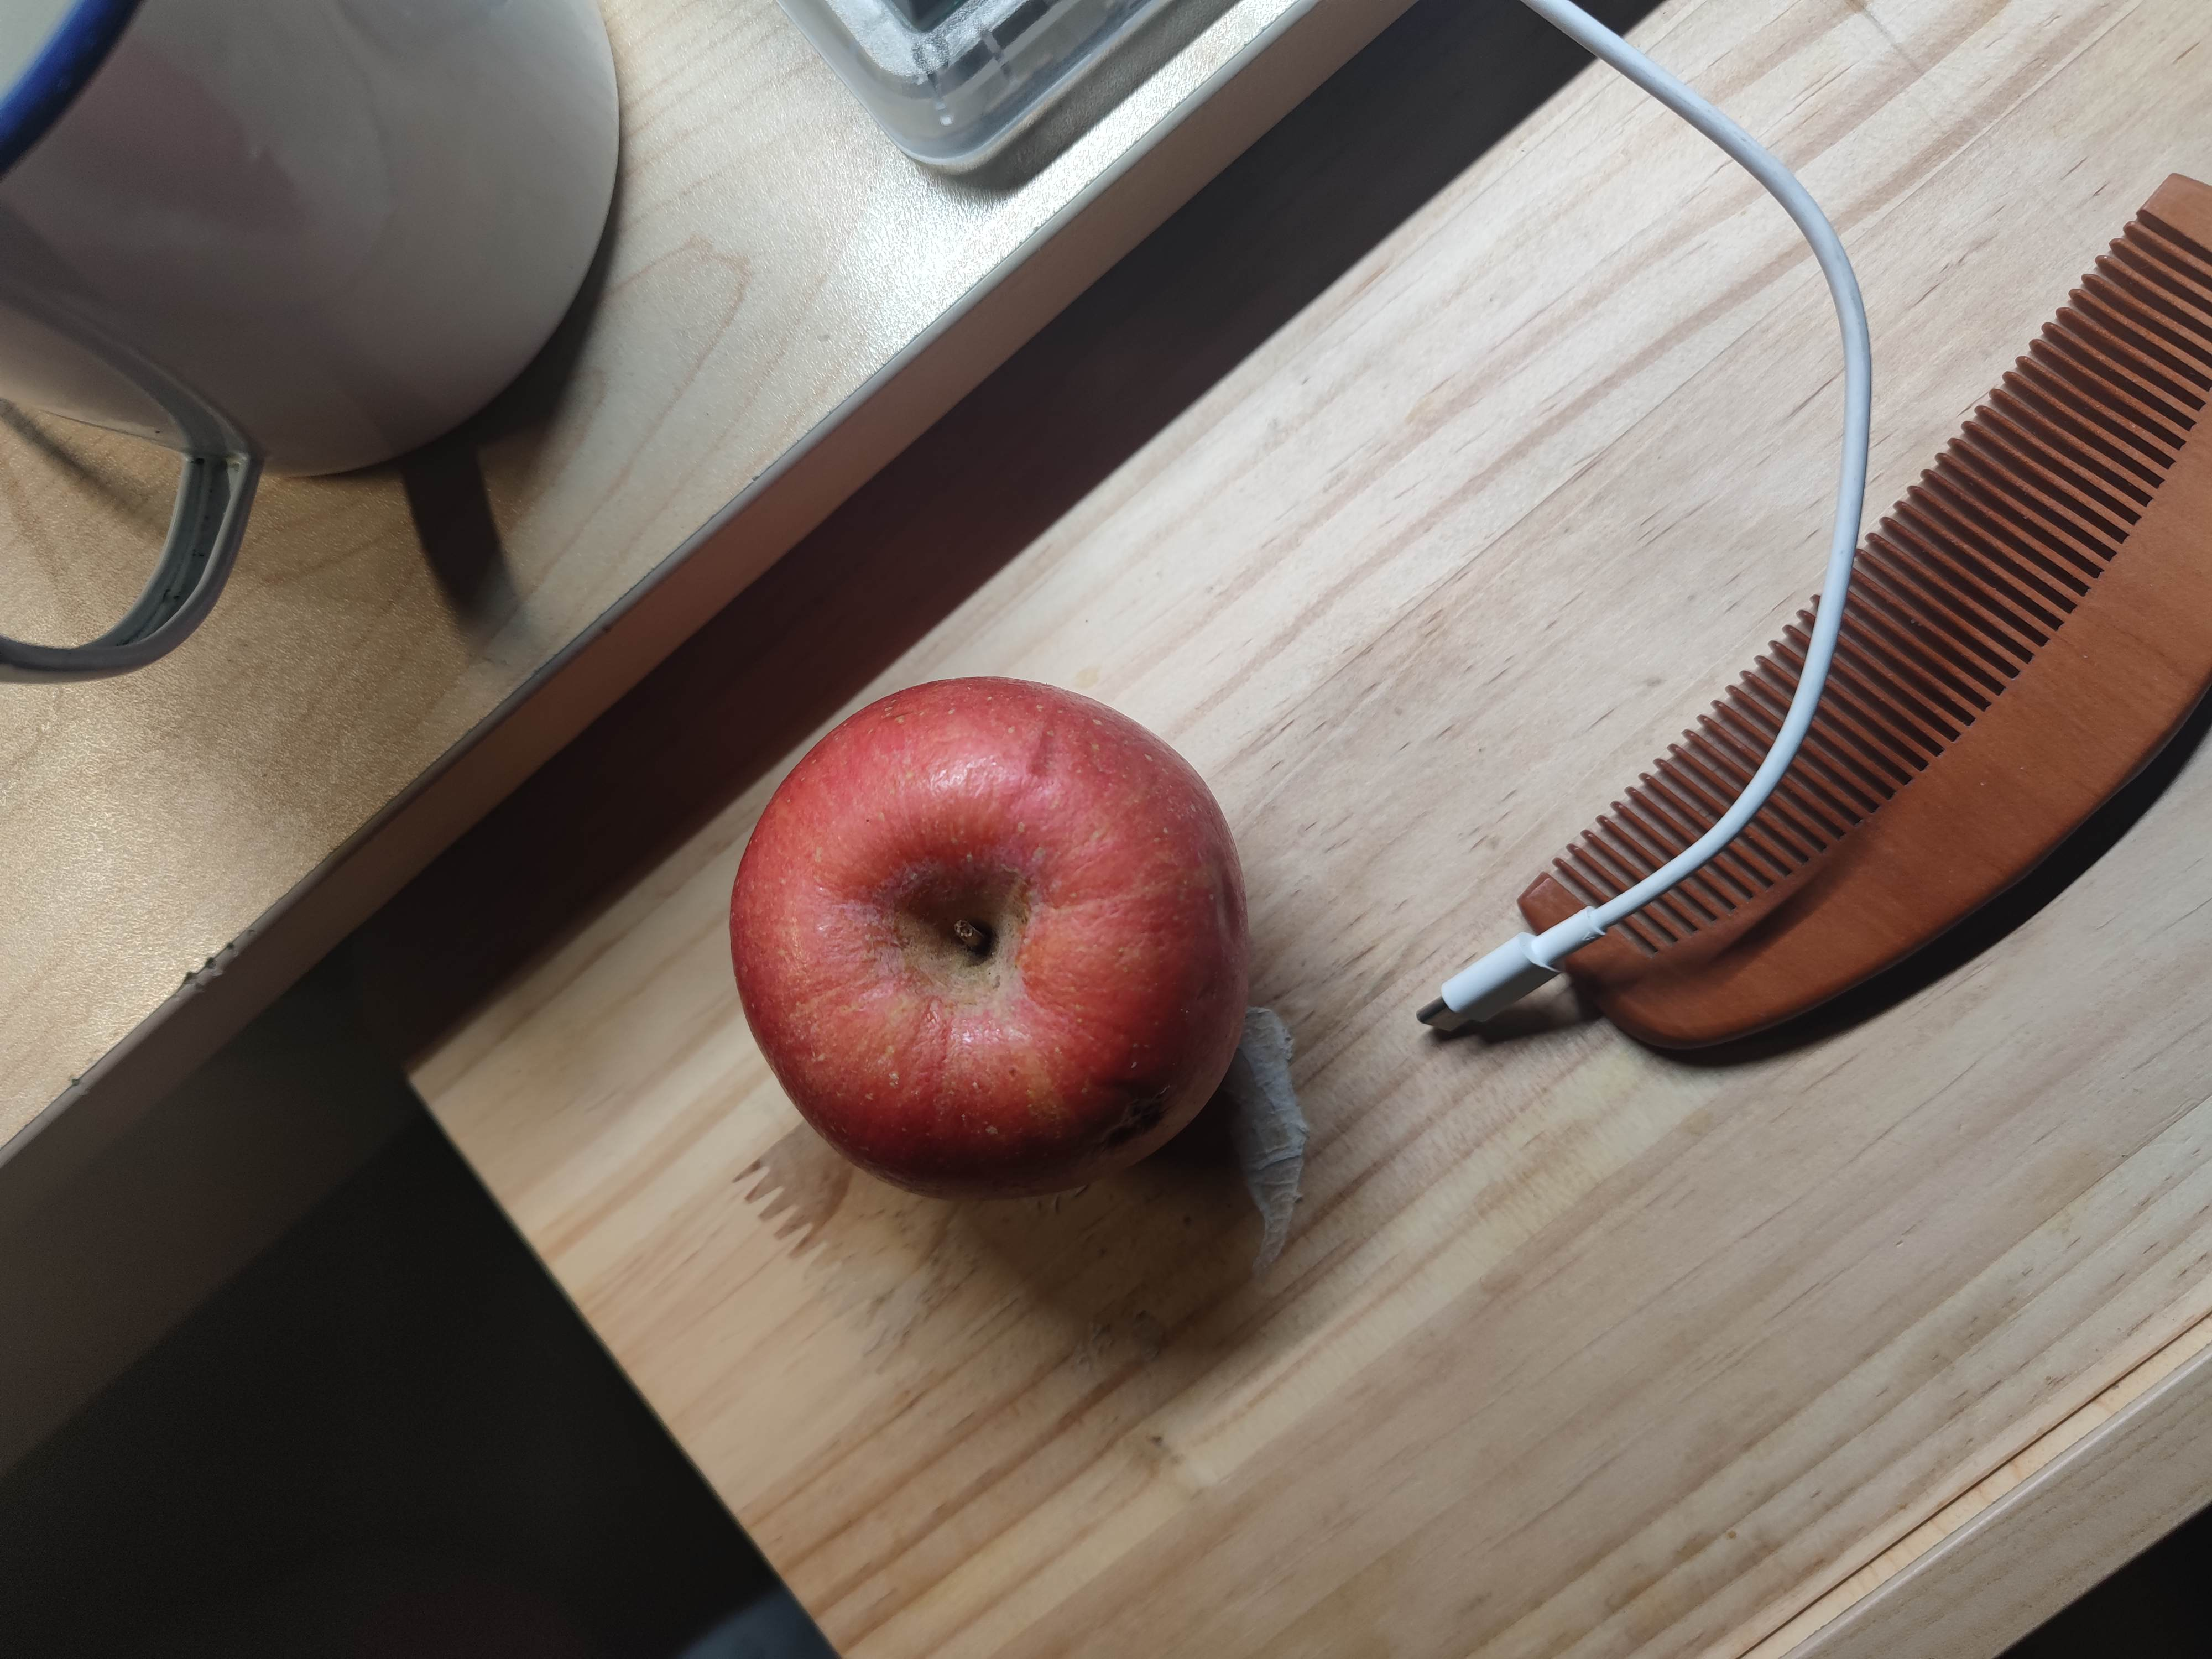apple: (725, 674, 1259, 1209)
